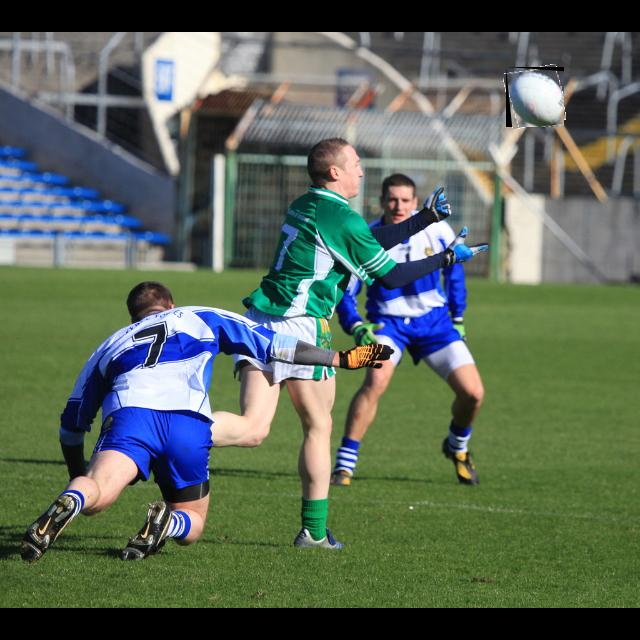Football: (506, 67, 564, 127)
